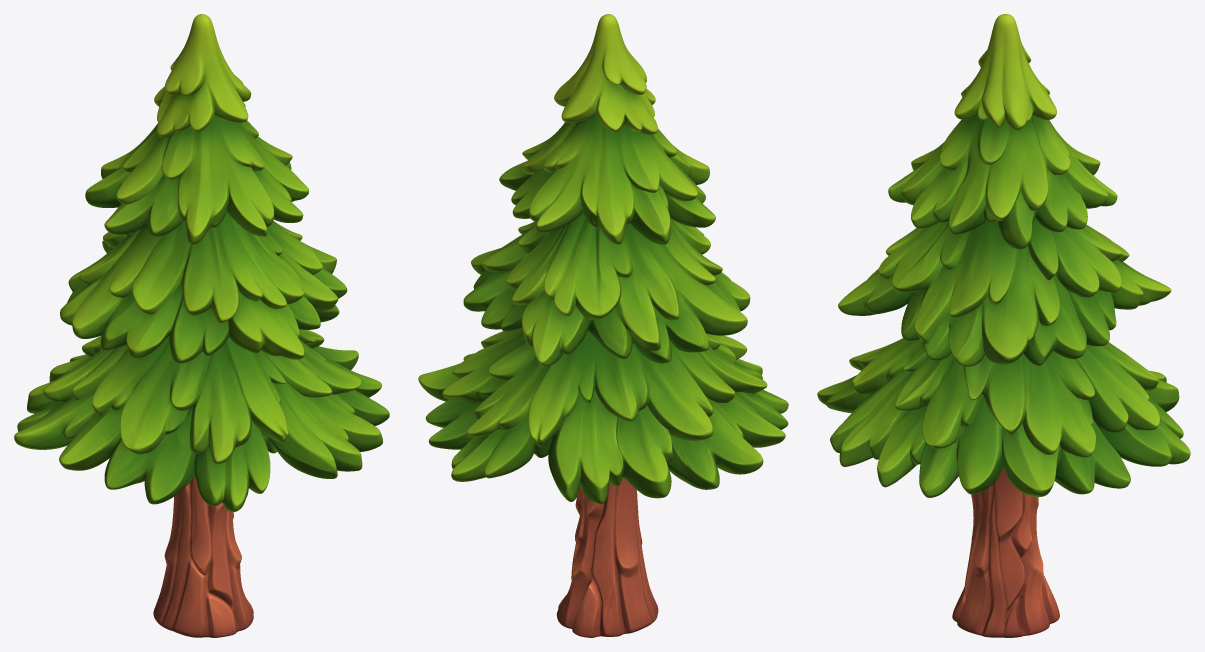
The model's file is cypress-tall-01.glb.
3 views of the same model, side by side, from view 1: azimuth 30°, elevation 25°; view 2: azimuth 150°, elevation 25°; view 3: azimuth 270°, elevation 25° (orthographic).
Size of the model in its own units: 1.13 by 1.9 by 1.07.
1 material, 1 textured.
